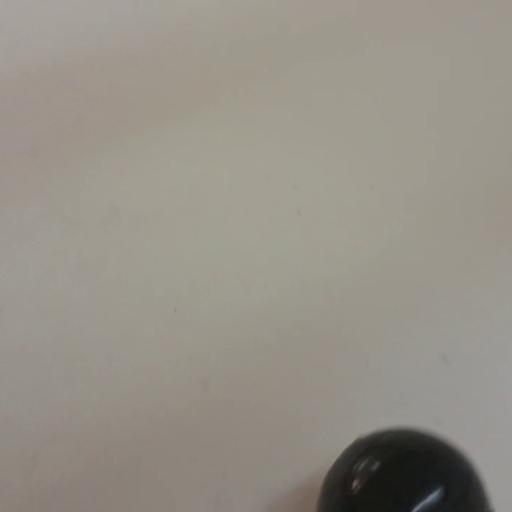dead: (321, 426, 481, 510)
